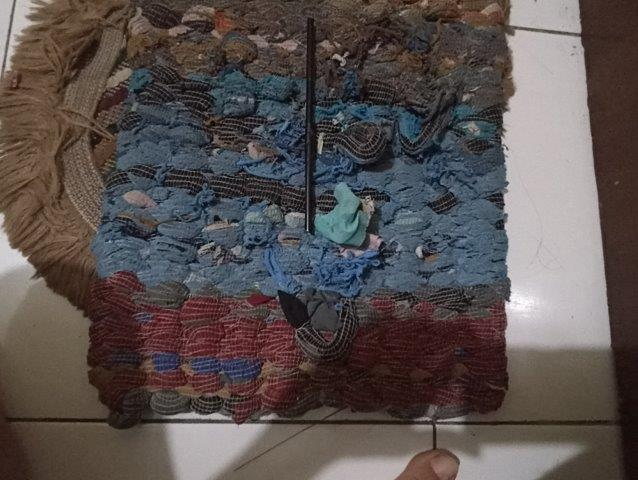sedotan: (305, 20, 314, 232)
